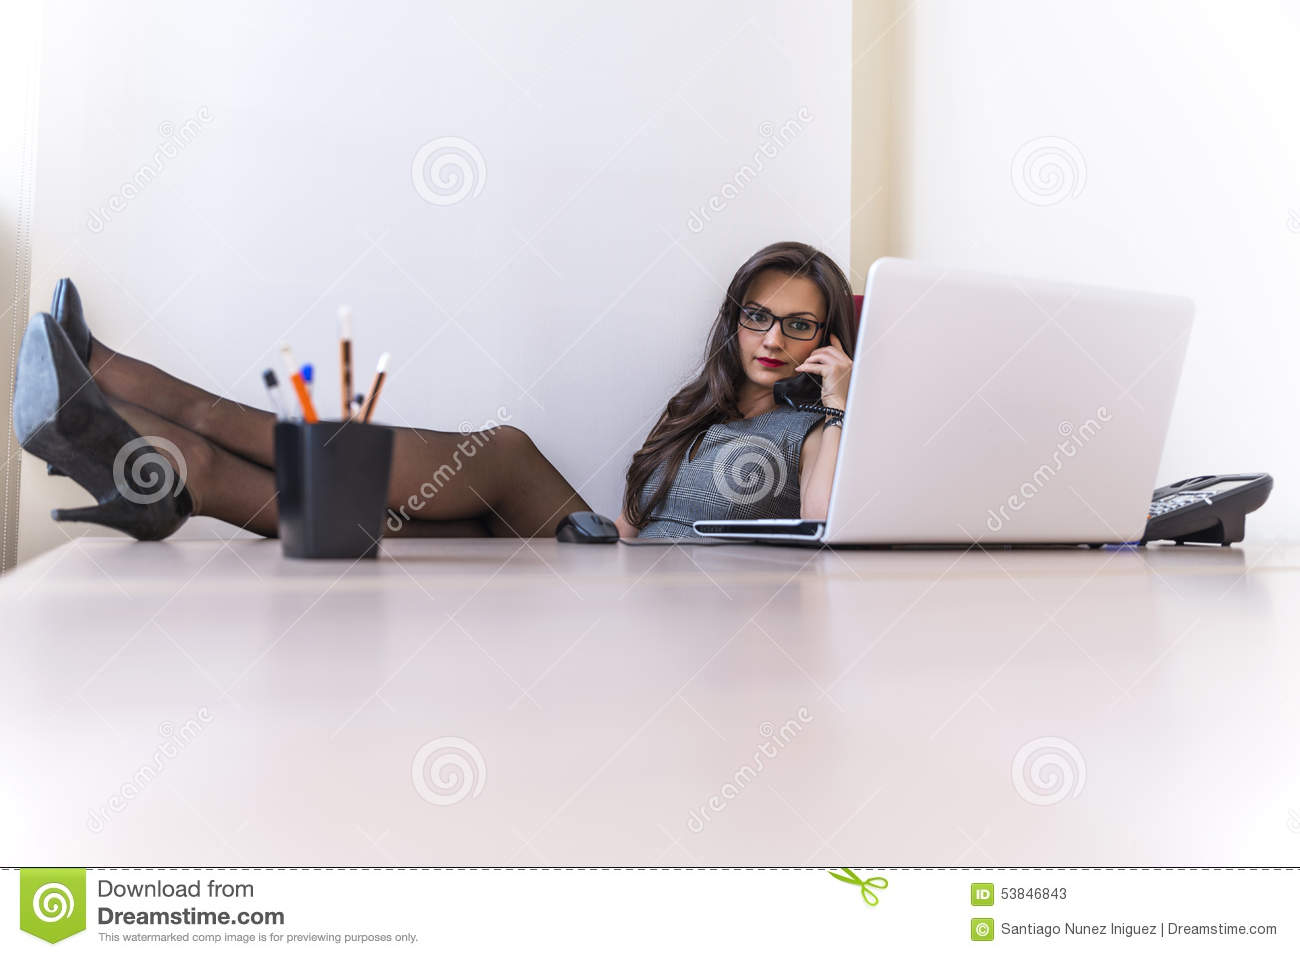talk: (735, 297, 853, 411)
